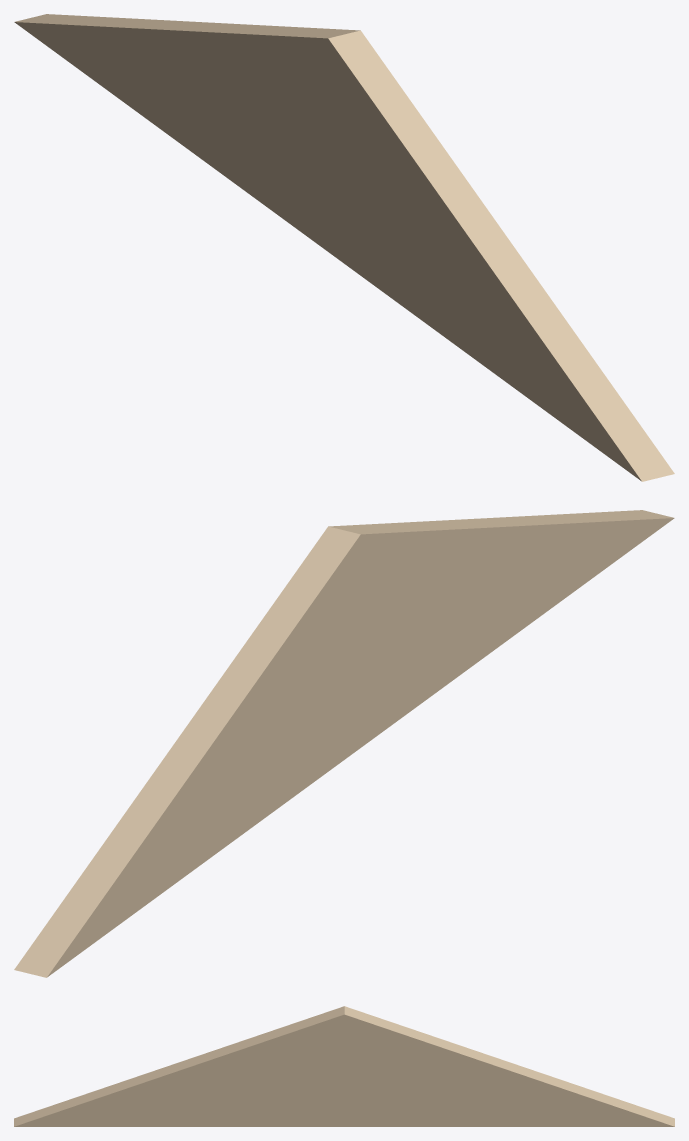
The model's file is SM_Gable_End_6m.fbx.
3 views of the same model, one above another, from view 1: azimuth 30°, elevation 25°; view 2: azimuth 150°, elevation 25°; view 3: azimuth 270°, elevation 25° (orthographic). The views are drawn at different scales.
Visible parts, largest first — view 1: SM_Gable_End_6m; view 2: SM_Gable_End_6m; view 3: SM_Gable_End_6m.
Boxes of the visible parts, <box> form: SM_Gable_End_6m: <box>14,14,674,481</box>; SM_Gable_End_6m: <box>14,510,674,977</box>; SM_Gable_End_6m: <box>14,1006,674,1126</box>.
Size of the model in its own units: 0.18 by 6 by 1.12.
